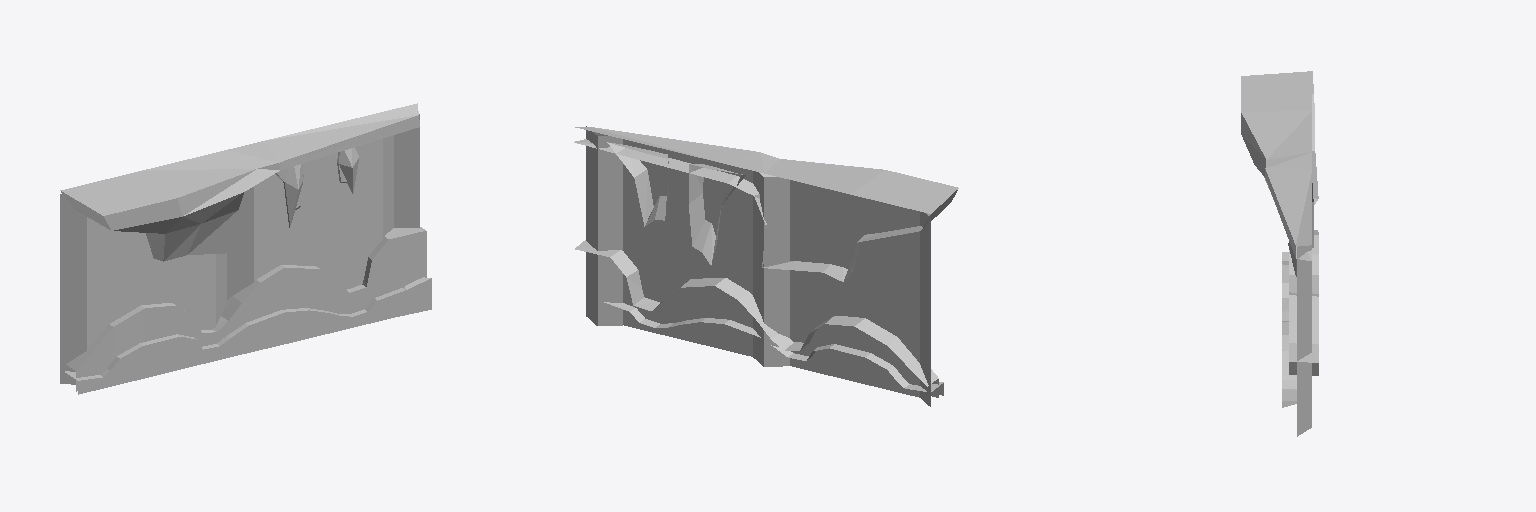
Rendered from ice_half.obj.
The picture shows the model from 3 angles: view 1: azimuth 30°, elevation 25°; view 2: azimuth 150°, elevation 25°; view 3: azimuth 270°, elevation 25°; orthographic projection.
Visible parts, largest first — view 1: polySurface3 pCube16, polySurface1; view 2: polySurface3 pCube16, polySurface1; view 3: polySurface3 pCube16, polySurface1.
Boxes of the visible parts, x1,y1,x2,y2 form: polySurface3 pCube16: [60, 103, 419, 384]; polySurface1: [65, 227, 431, 394]; polySurface3 pCube16: [574, 126, 958, 406]; polySurface1: [575, 240, 943, 397]; polySurface3 pCube16: [1241, 71, 1318, 436]; polySurface1: [1282, 230, 1318, 407].
Bounding box in the file's own units: 2.77 × 1.44 × 0.5187.